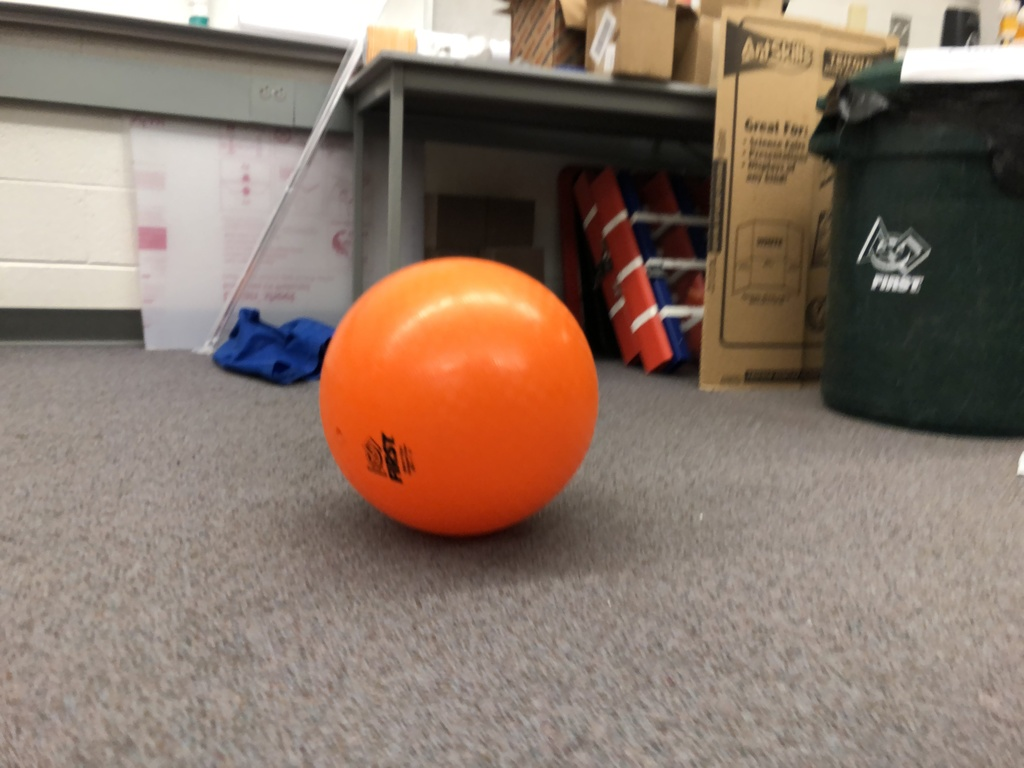cargo: (310, 245, 616, 551)
